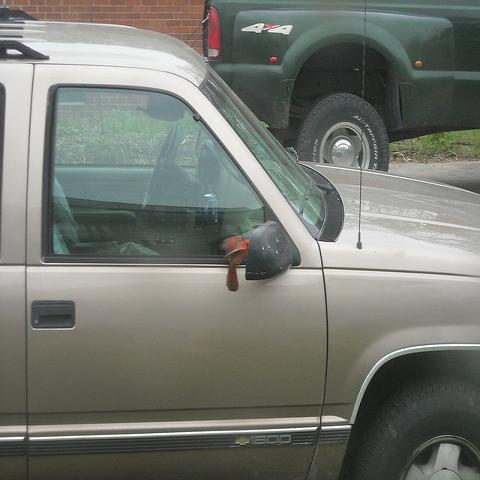car: (2, 16, 480, 474)
truck: (1, 10, 479, 475), (204, 0, 479, 174)
